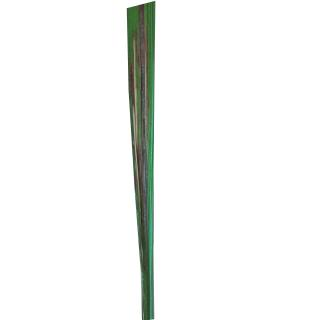Hawar-Daun: (131, 7, 152, 279)
